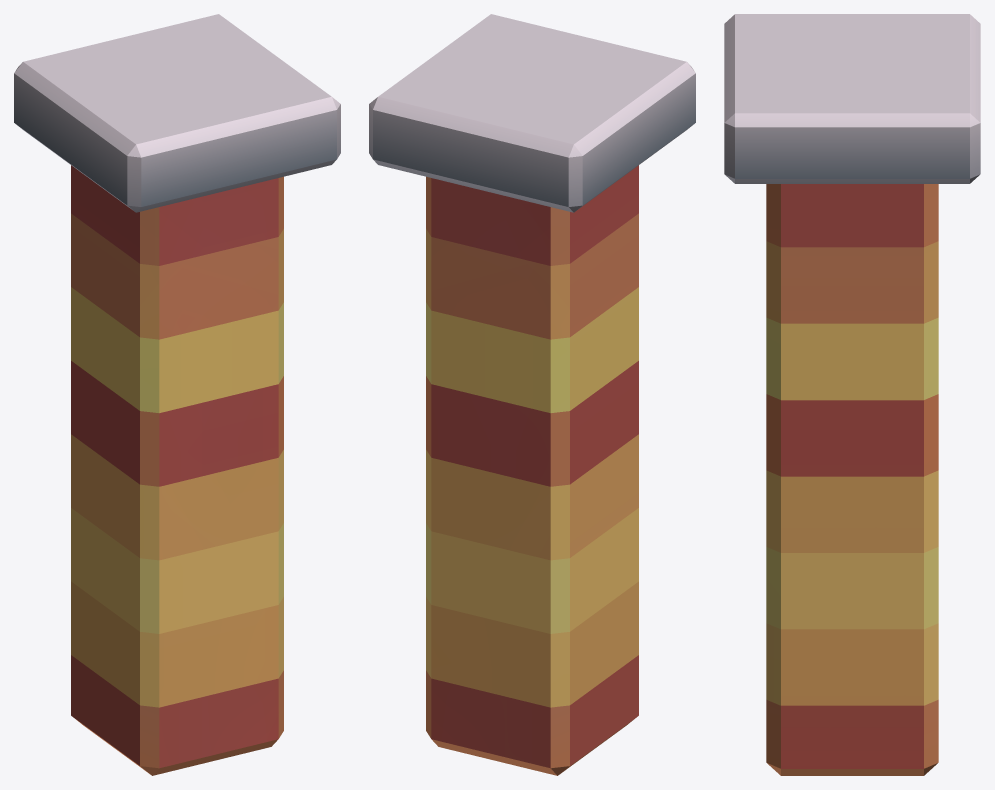
Rendered from lpb_fence_5.fbx.
3 renders of one model, left to right at view 1: azimuth 30°, elevation 25°; view 2: azimuth 150°, elevation 25°; view 3: azimuth 270°, elevation 25°, orthographic. The views are drawn at different scales.
Visible parts, largest first — view 1: fence5; view 2: fence5; view 3: fence5.
Part boxes in pixels (x1,y1,x2,y2): fence5: (14,14,340,775); fence5: (369,14,695,775); fence5: (724,14,980,775).
Bounding box in the file's own units: 113 × 333 × 113.
